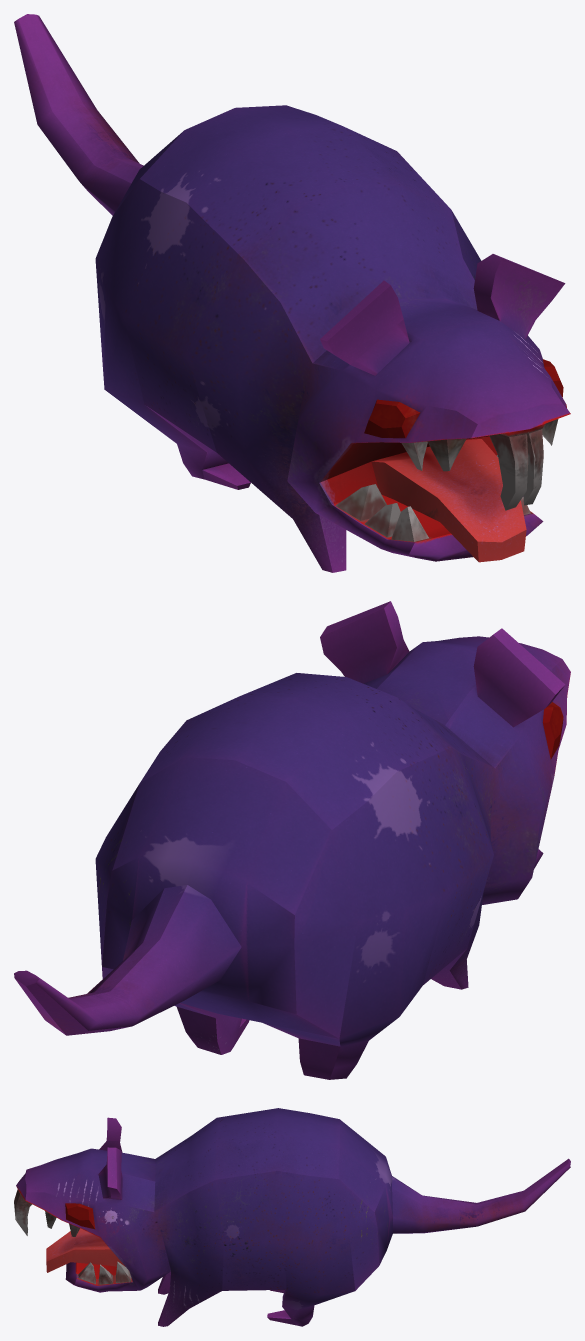
Rendered from ExplodeV02.fbx.
The picture shows the model from 3 angles, top to bottom: view 1: azimuth 30°, elevation 25°; view 2: azimuth 150°, elevation 25°; view 3: azimuth 270°, elevation 25°; orthographic projection. The views are drawn at different scales.
Parts seen in each view (by area): view 1: body, Tongue; view 2: body; view 3: body, Tongue.
Boxes of the visible parts, x1,y1,x2,y2 form: body: (14, 14, 570, 572); Tongue: (371, 439, 526, 562); body: (14, 601, 570, 1079); body: (14, 1108, 570, 1326); Tongue: (46, 1228, 125, 1272).
Bounding box in the file's own units: 32.95 × 33.83 × 89.28.
1 material, 1 textured.
